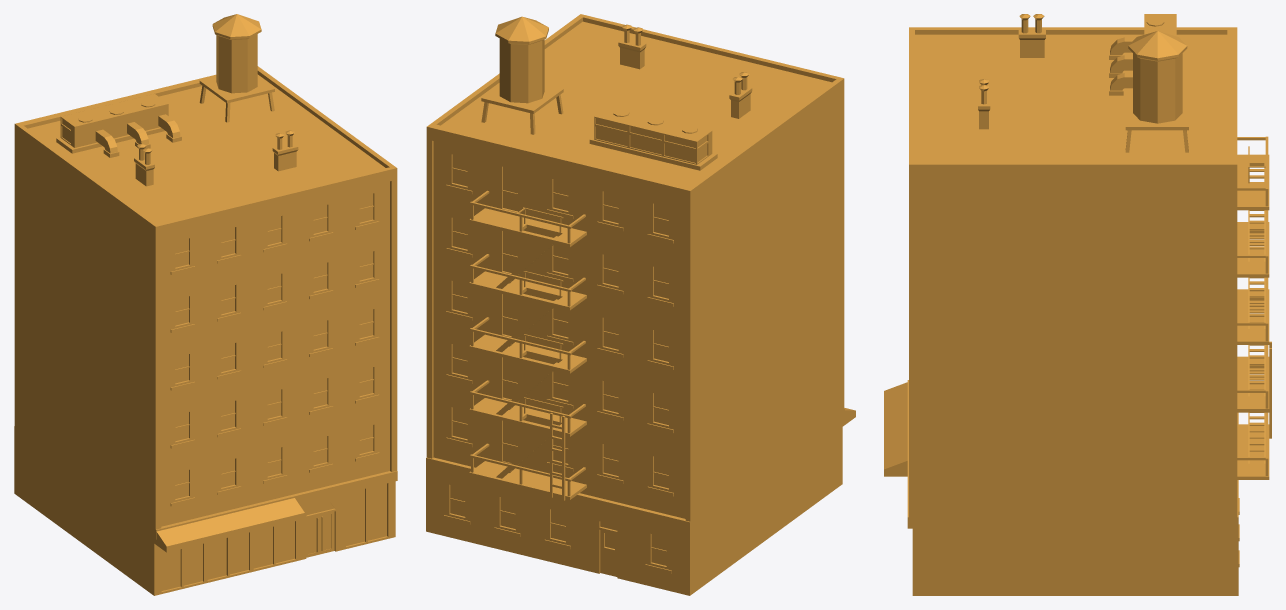
The model's file is building-block-5floor.fbx.
3 renders of one model, left to right at view 1: azimuth 30°, elevation 25°; view 2: azimuth 150°, elevation 25°; view 3: azimuth 270°, elevation 25°, orthographic. The views are drawn at different scales.
Visible parts, largest first — view 1: building-block-5floor; view 2: building-block-5floor; view 3: building-block-5floor.
Boxes of the visible parts, box(x1,y1,x2,y2) form: building-block-5floor: box(14, 14, 397, 595); building-block-5floor: box(426, 14, 855, 595); building-block-5floor: box(884, 14, 1271, 595).
Size of the model in its own units: 13.1 by 23.81 by 15.65.
